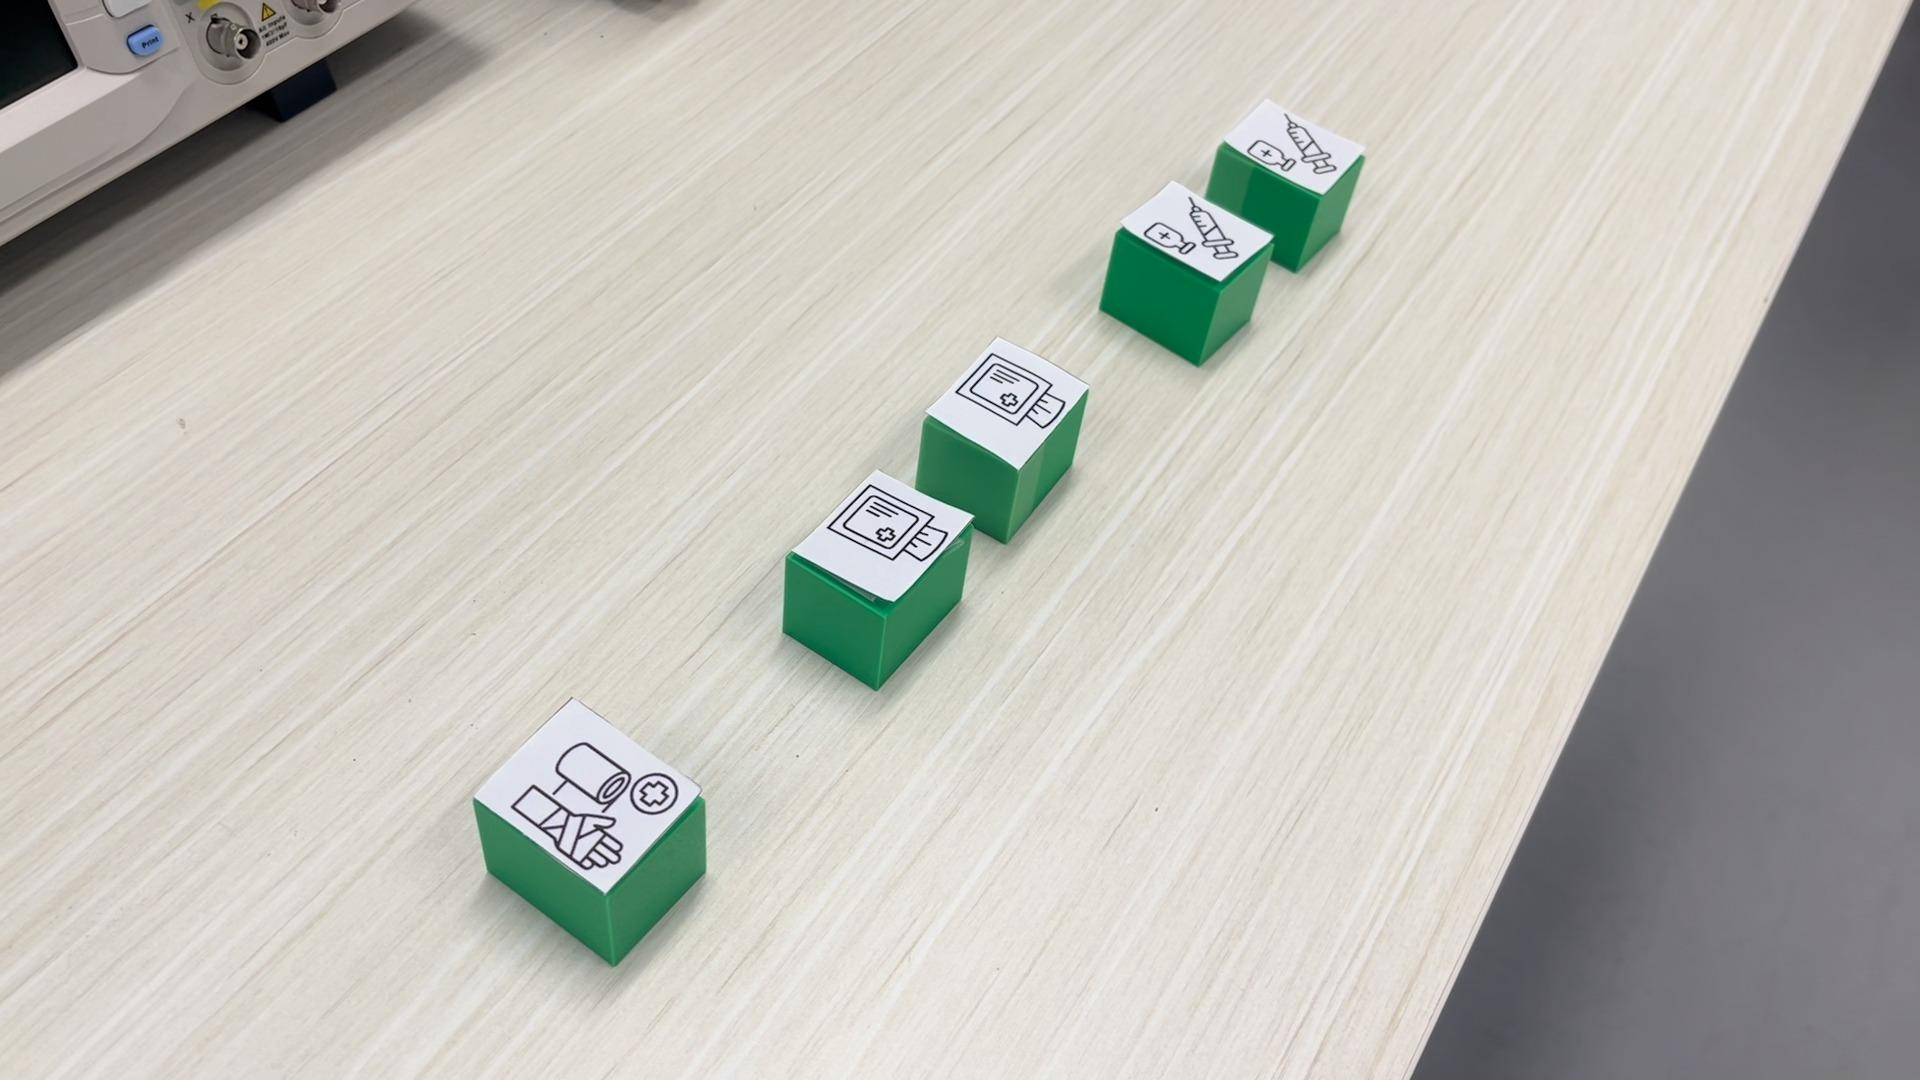Bandages: (468, 698, 708, 967)
Gauze: (781, 468, 971, 688), (918, 335, 1089, 545)
antiseptic cream: (1100, 181, 1275, 368), (1217, 95, 1364, 215)
